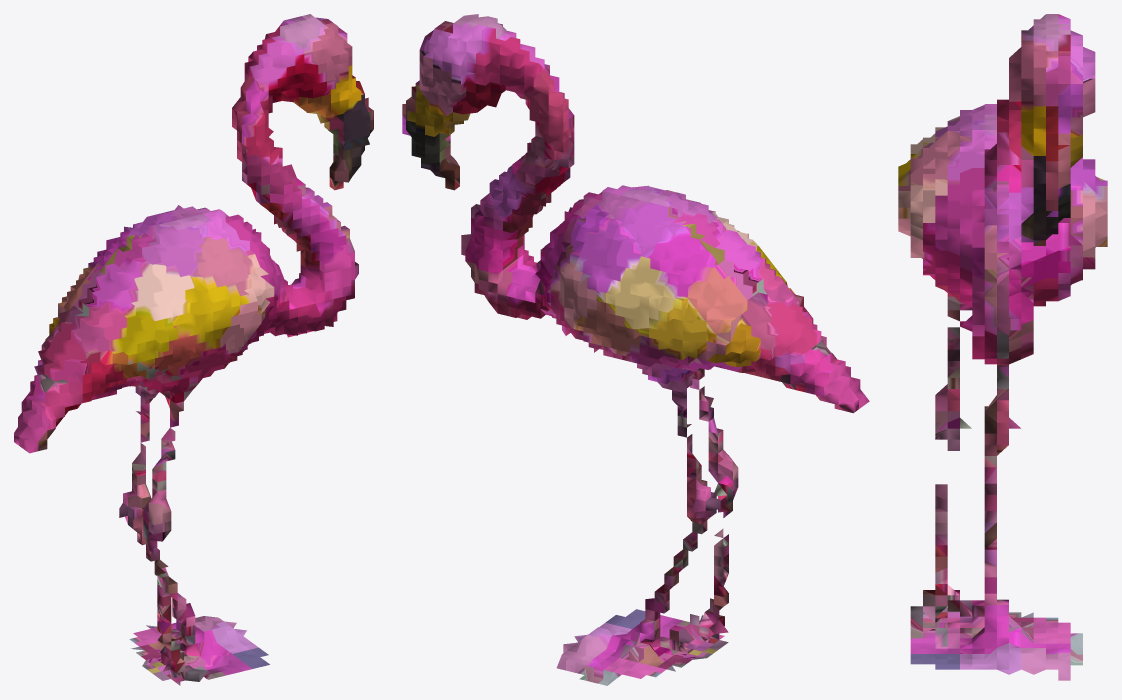
The model's file is simplified_flamingo.glb.
3 renders of one model, left to right at view 1: azimuth 30°, elevation 25°; view 2: azimuth 150°, elevation 25°; view 3: azimuth 270°, elevation 25°, orthographic. The views are drawn at different scales.
Parts seen in each view (by area): view 1: Mesh1; view 2: Mesh1; view 3: Mesh1.
Part boxes in pixels (<box>): Mesh1: <box>14,14,373,685</box>; Mesh1: <box>402,14,869,685</box>; Mesh1: <box>898,14,1107,680</box>.
Size of the model in its own units: 0.7337 by 1.05 by 0.2835.
Materials: 1 (1 with a texture image).
